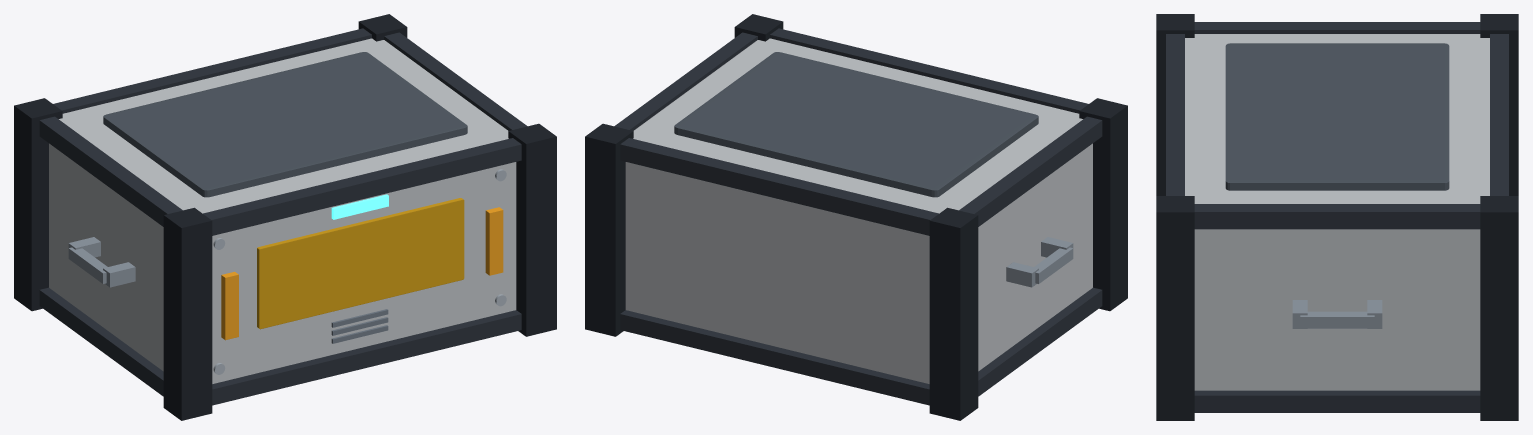
Rendered from Supply_Crate.fbx.
The picture shows the model from 3 angles, left to right: view 1: azimuth 30°, elevation 25°; view 2: azimuth 150°, elevation 25°; view 3: azimuth 270°, elevation 25°; orthographic projection. The views are drawn at different scales.
Visible parts, largest first — view 1: Supply_Crate_Body, Top_Reinforced_Panel, Front_Nameplate, Corner_Frame_01, Corner_Frame_02, Front Top, Corner_Frame_03, Front_Bottom_Frame, Left Top, Back Top, Left Bottom, Right Top (+6 smaller); view 2: Supply_Crate_Body, Top_Reinforced_Panel, Corner_Frame_03, Corner_Frame_04, Back Top, Corner_Frame_01, Back Bottom, Left Top, Front Top, Left Bottom, Right Top, Corner_Frame_02 (+2 smaller); view 3: Supply_Crate_Body, Top_Reinforced_Panel, Corner_Frame_02, Corner_Frame_04, Right Top, Right Bottom, Left Top, Back Top, Front Top, Corner_Frame_01, Corner_Frame_03, Right_Handle_Grip (+2 smaller).
Part boxes in pixels (x1=…): Supply_Crate_Body: x1=49, y1=38, x2=516, y2=383; Top_Reinforced_Panel: x1=103, y1=52, x2=467, y2=197; Front_Nameplate: x1=257, y1=198, x2=464, y2=329; Corner_Frame_01: x1=163, y1=207, x2=212, y2=420; Corner_Frame_02: x1=508, y1=123, x2=556, y2=336; Front Top: x1=203, y1=138, x2=521, y2=235; Corner_Frame_03: x1=14, y1=98, x2=62, y2=311; Front_Bottom_Frame: x1=212, y1=310, x2=521, y2=405; Left Top: x1=39, y1=116, x2=182, y2=226; Back Top: x1=53, y1=28, x2=371, y2=113; Left Bottom: x1=39, y1=287, x2=163, y2=396; Right Top: x1=384, y1=32, x2=527, y2=130; Supply_Crate_Body: x1=625, y1=38, x2=1092, y2=383; Top_Reinforced_Panel: x1=674, y1=52, x2=1038, y2=197; Corner_Frame_03: x1=929, y1=207, x2=978, y2=420; Corner_Frame_04: x1=585, y1=123, x2=633, y2=336; Back Top: x1=620, y1=138, x2=938, y2=235; Corner_Frame_01: x1=1079, y1=98, x2=1127, y2=311; Back Bottom: x1=620, y1=310, x2=929, y2=405; Left Top: x1=959, y1=116, x2=1102, y2=226; Front Top: x1=770, y1=28, x2=1088, y2=113; Left Bottom: x1=978, y1=287, x2=1102, y2=396; Right Top: x1=614, y1=32, x2=757, y2=130; Corner_Frame_02: x1=734, y1=14, x2=783, y2=41; Supply_Crate_Body: x1=1185, y1=34, x2=1489, y2=390; Top_Reinforced_Panel: x1=1225, y1=43, x2=1449, y2=190; Corner_Frame_02: x1=1156, y1=196, x2=1194, y2=420; Corner_Frame_04: x1=1480, y1=196, x2=1518, y2=420; Right Top: x1=1194, y1=204, x2=1480, y2=229; Right Bottom: x1=1194, y1=390, x2=1480, y2=412; Left Top: x1=1194, y1=22, x2=1480, y2=33; Back Top: x1=1490, y1=34, x2=1508, y2=195; Front Top: x1=1166, y1=34, x2=1184, y2=195; Corner_Frame_01: x1=1156, y1=14, x2=1194, y2=195; Corner_Frame_03: x1=1480, y1=14, x2=1518, y2=195; Right_Handle_Grip: x1=1300, y1=311, x2=1374, y2=328.
Bounding box in the file's own units: 468 × 216 × 340.
